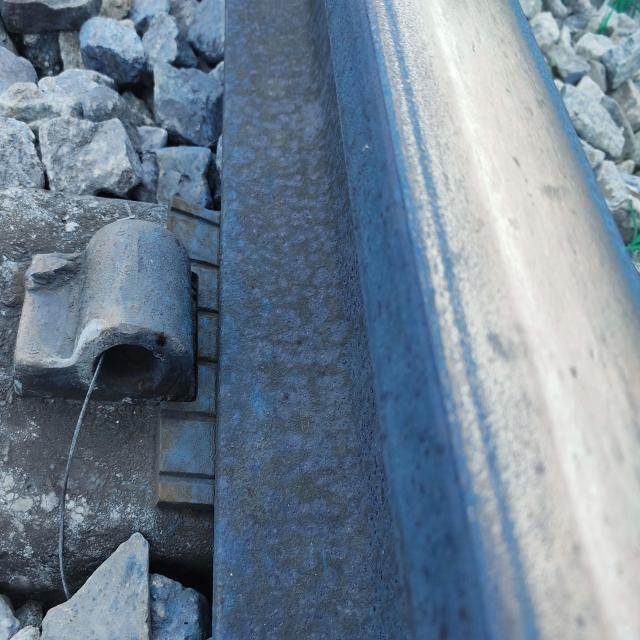Missing Fastener: (4, 205, 210, 442)
